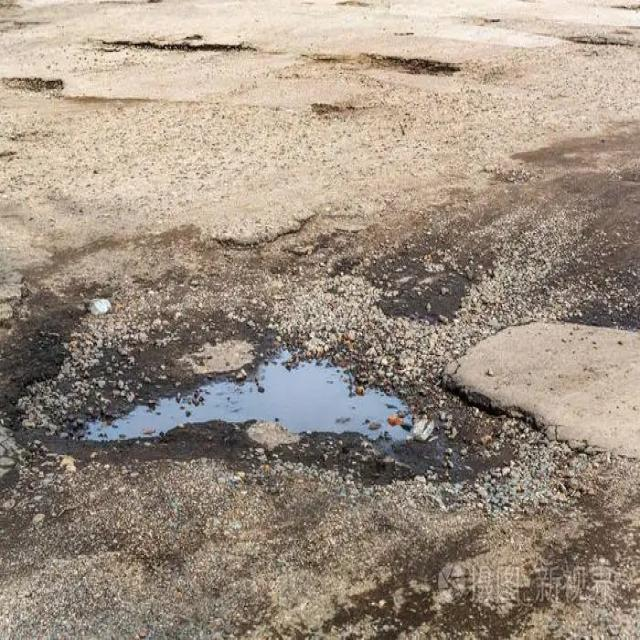Pothole: (50, 336, 559, 515), (367, 46, 458, 88), (2, 66, 80, 114), (112, 37, 247, 62)
